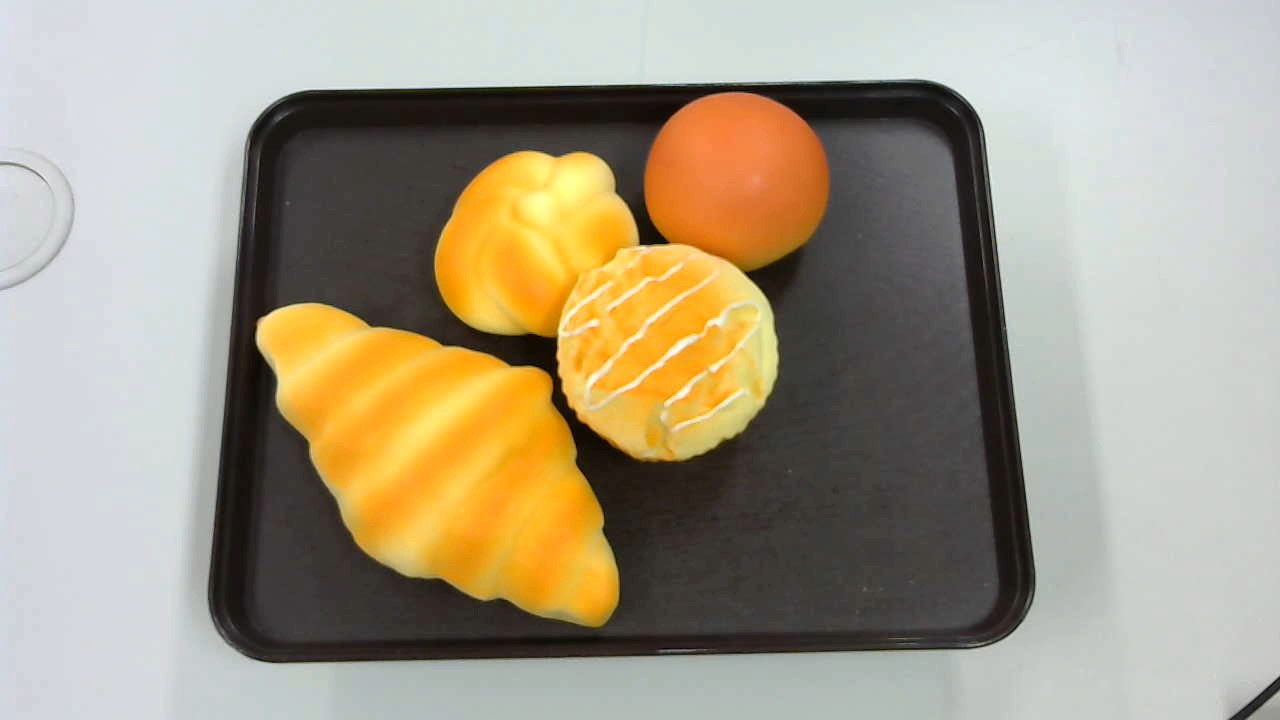bun: (642, 92, 830, 273)
croissant: (253, 301, 623, 626)
cupcake: (555, 244, 780, 463)
twist bread: (433, 150, 642, 340)
